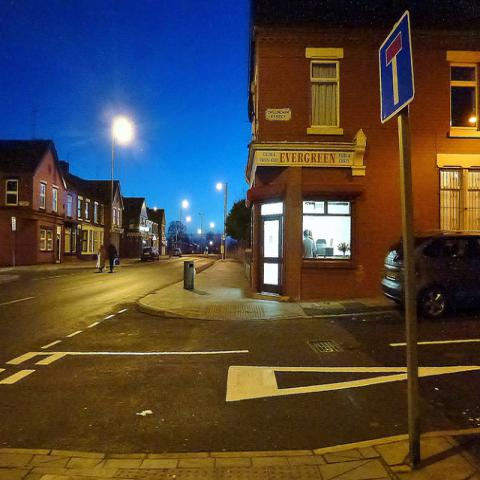car: (382, 230, 478, 320), (141, 246, 159, 262), (172, 248, 181, 256)
truck: (382, 231, 479, 319)
